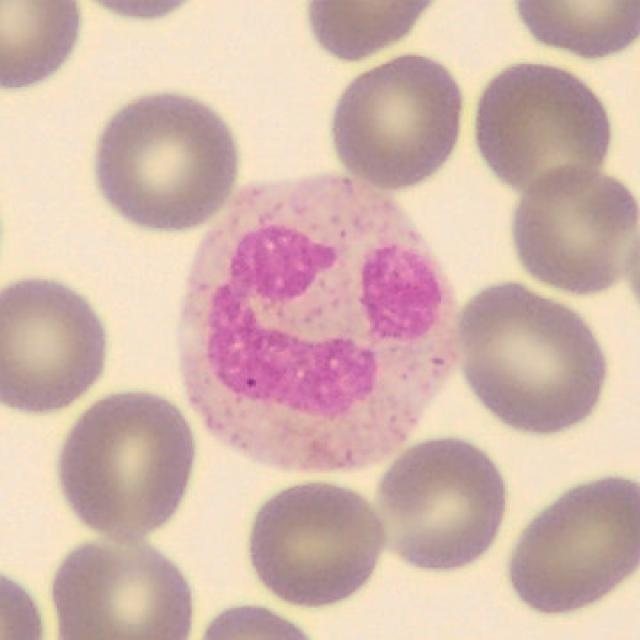Neutrofilo segmentado: (176, 176, 460, 475)
